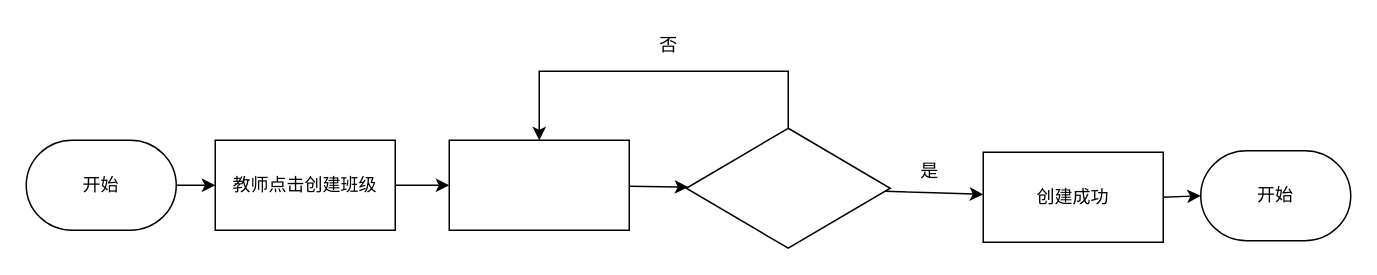
The diagram is 1377 pixels wide and 275 high, and some of its shapes have lost their labels. Each missing label, with the centre of its shape:
"填写班级名称" goes at point 538,184.
"班级是否存在" goes at point 787,187.
